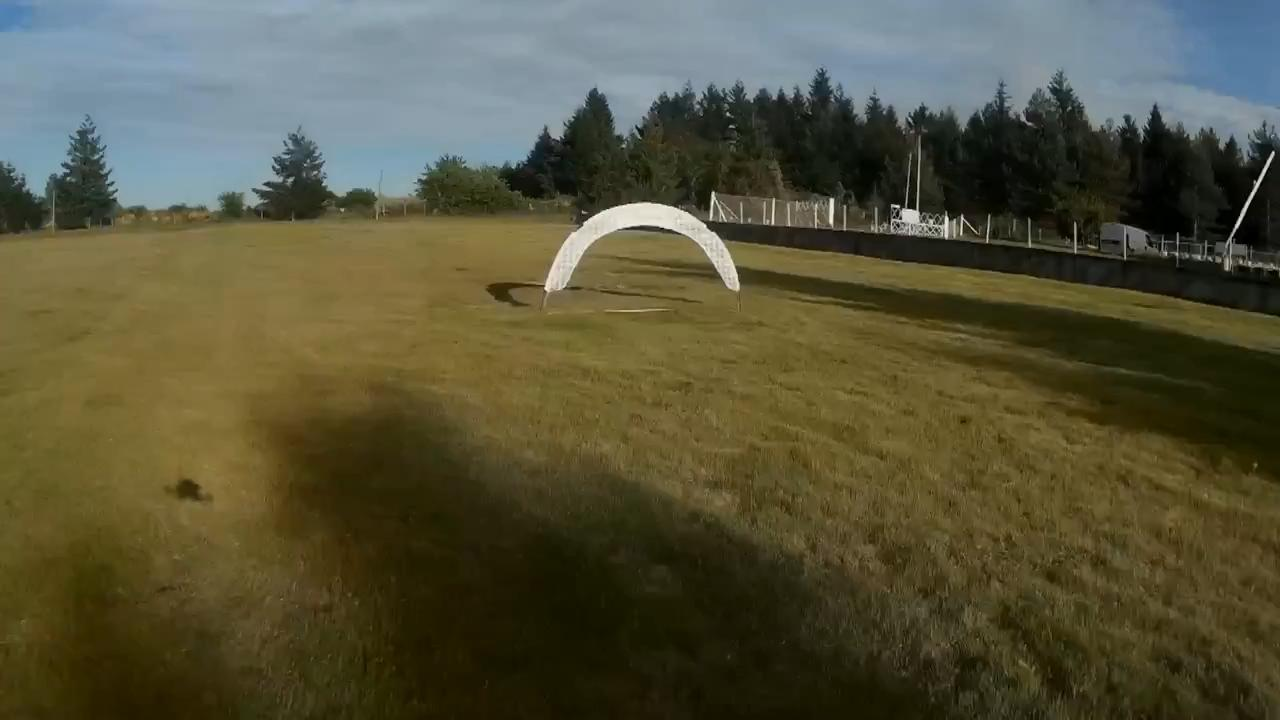gate: (545, 201, 738, 296)
